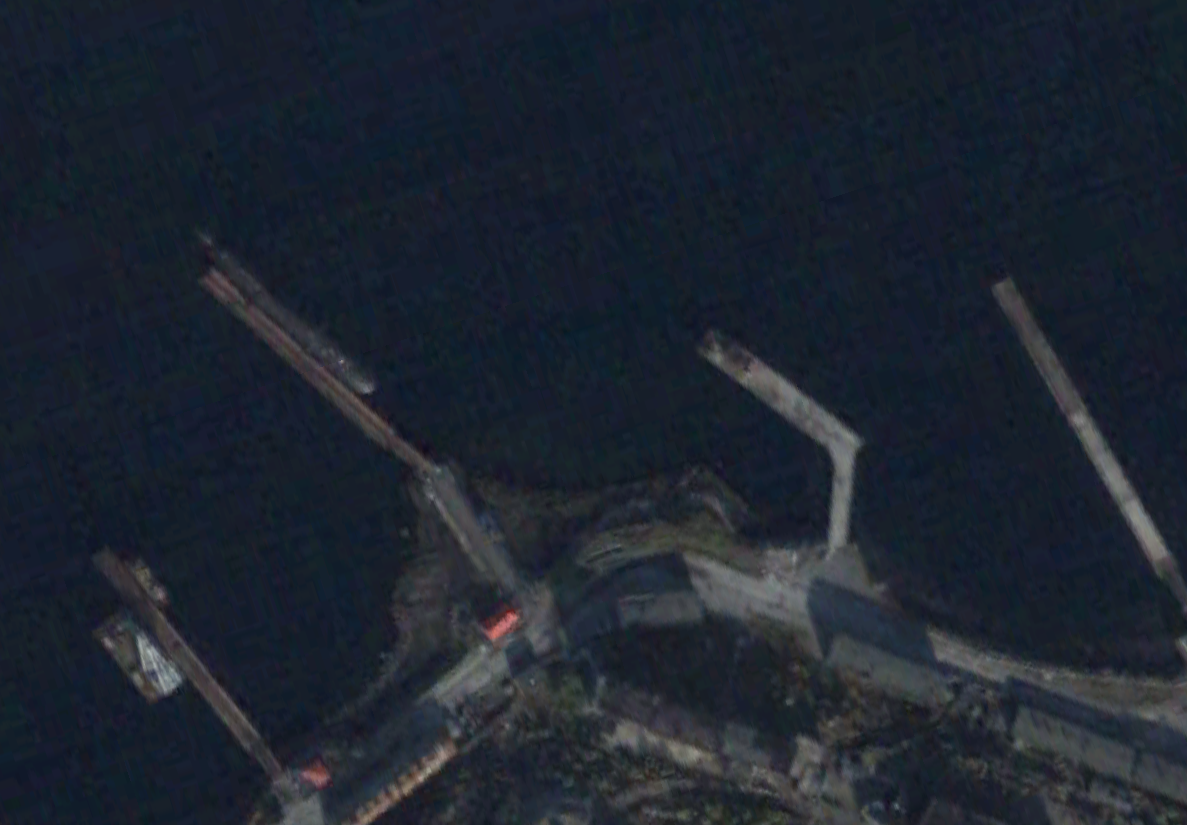merchant ship: (122, 549, 169, 610)
submarine: (184, 222, 375, 391)
